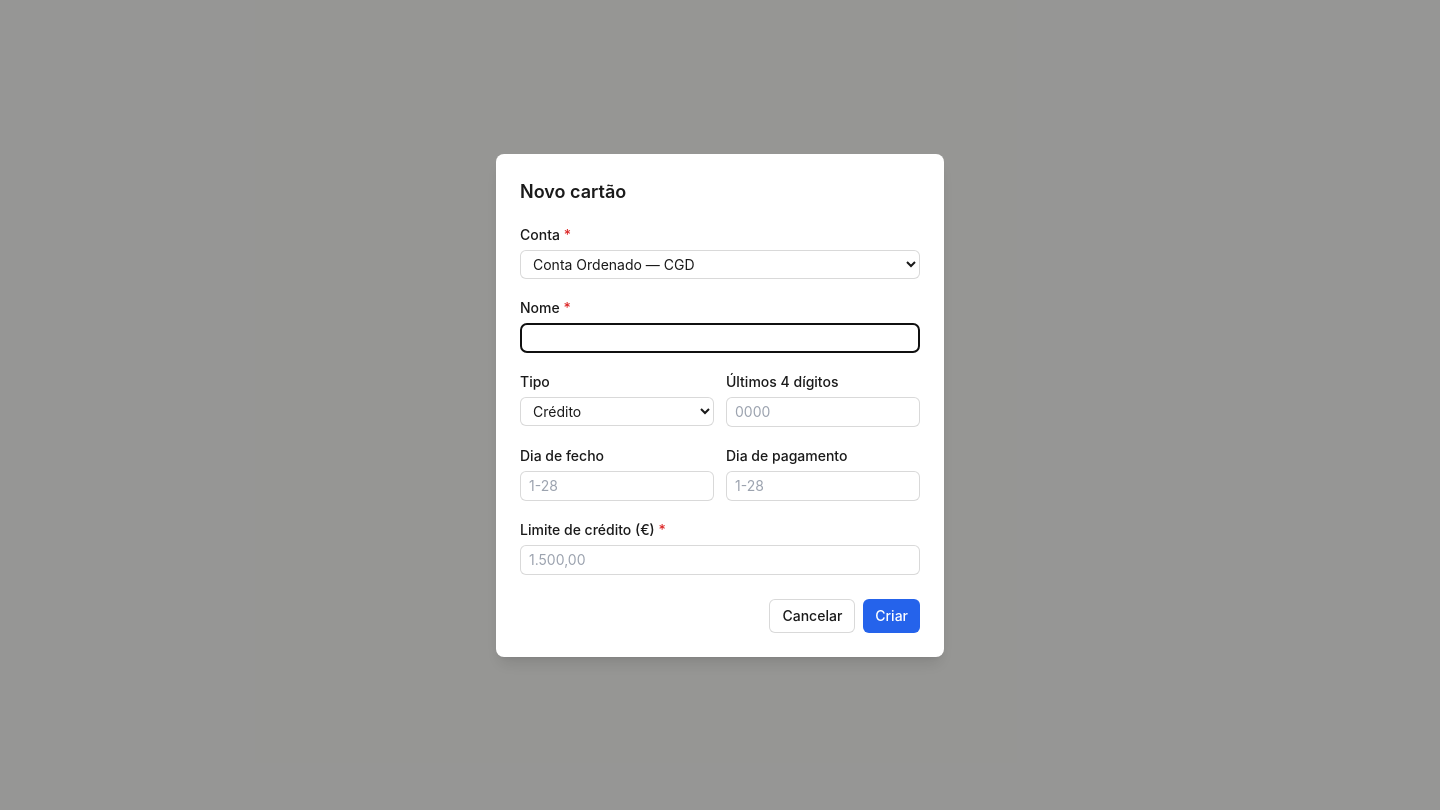
Test case: <NewCardModal> › dia de fecho fora de 1-28 bloqueia submit — sem POST
The width and height of the screenshot is (1440, 810).
Expected: the dropdown named "Conta associada" is enabled, [520,250,920,278]
Type "Visa" into the field named "Nome do cartão".
click(720, 338); type("Visa")  # box [520,322,920,352]
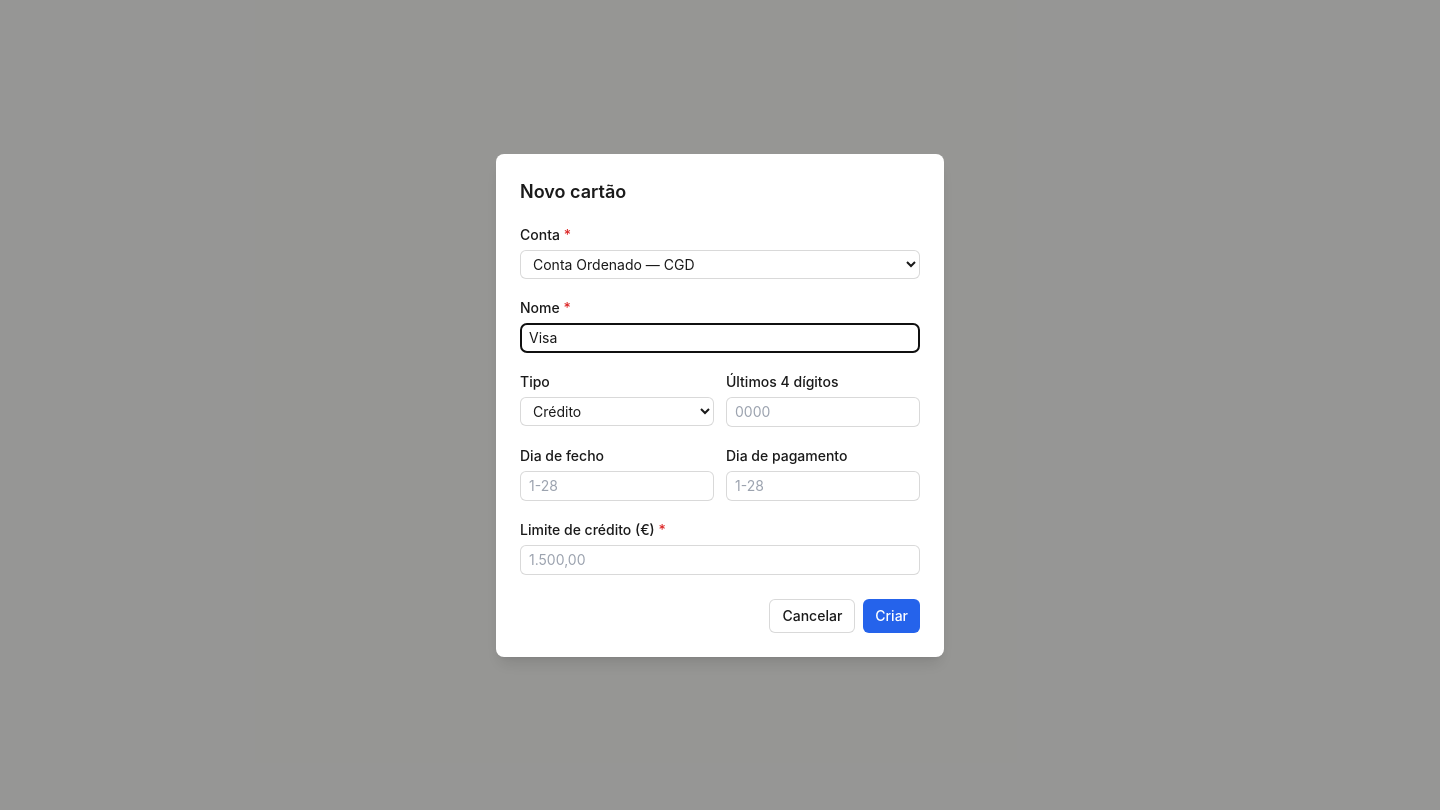
Type "29" into the field labelled "Dia de fecho".
click(617, 486); type("29")  # box [520,470,714,500]
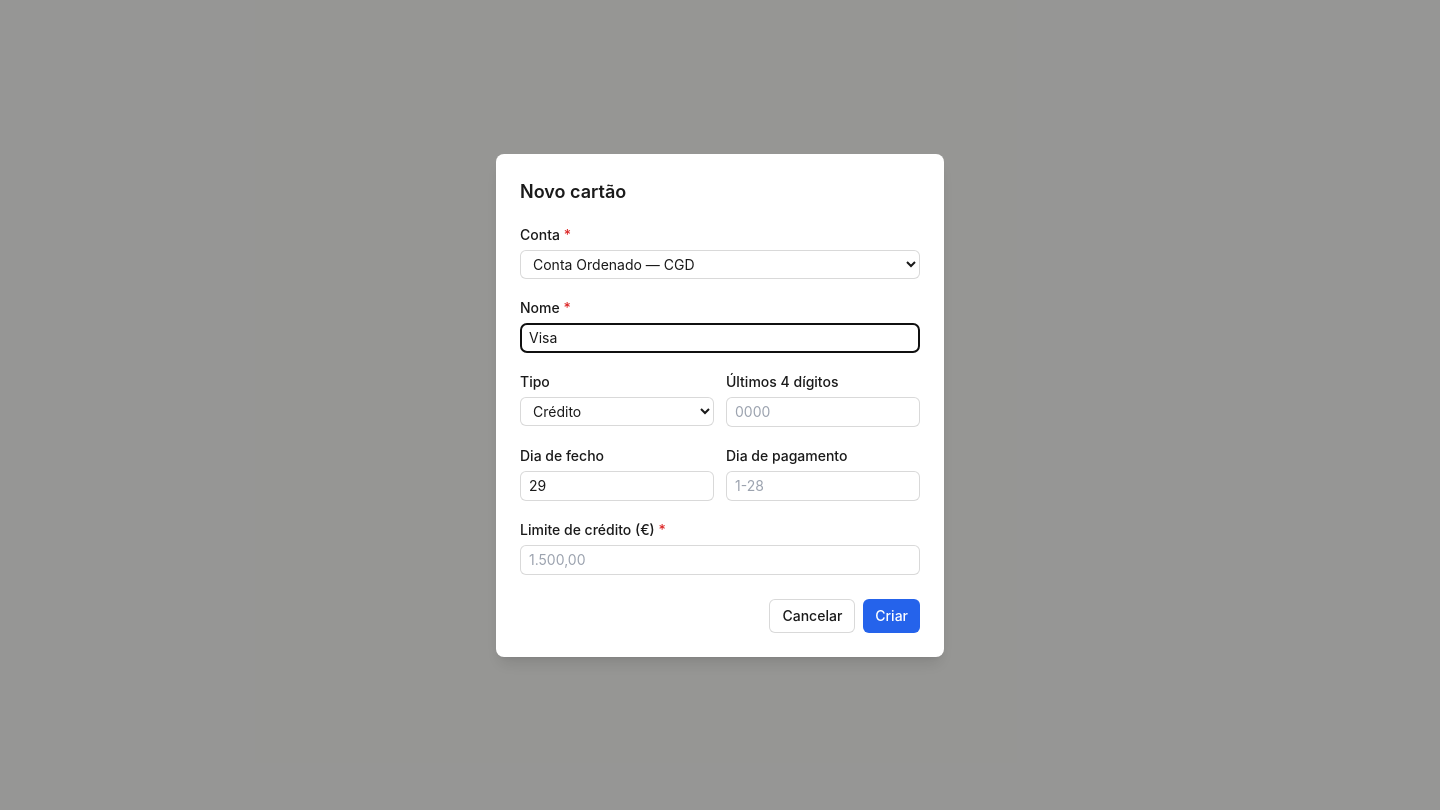
Click the button "Criar".
click(892, 616)  # box [863,598,920,632]
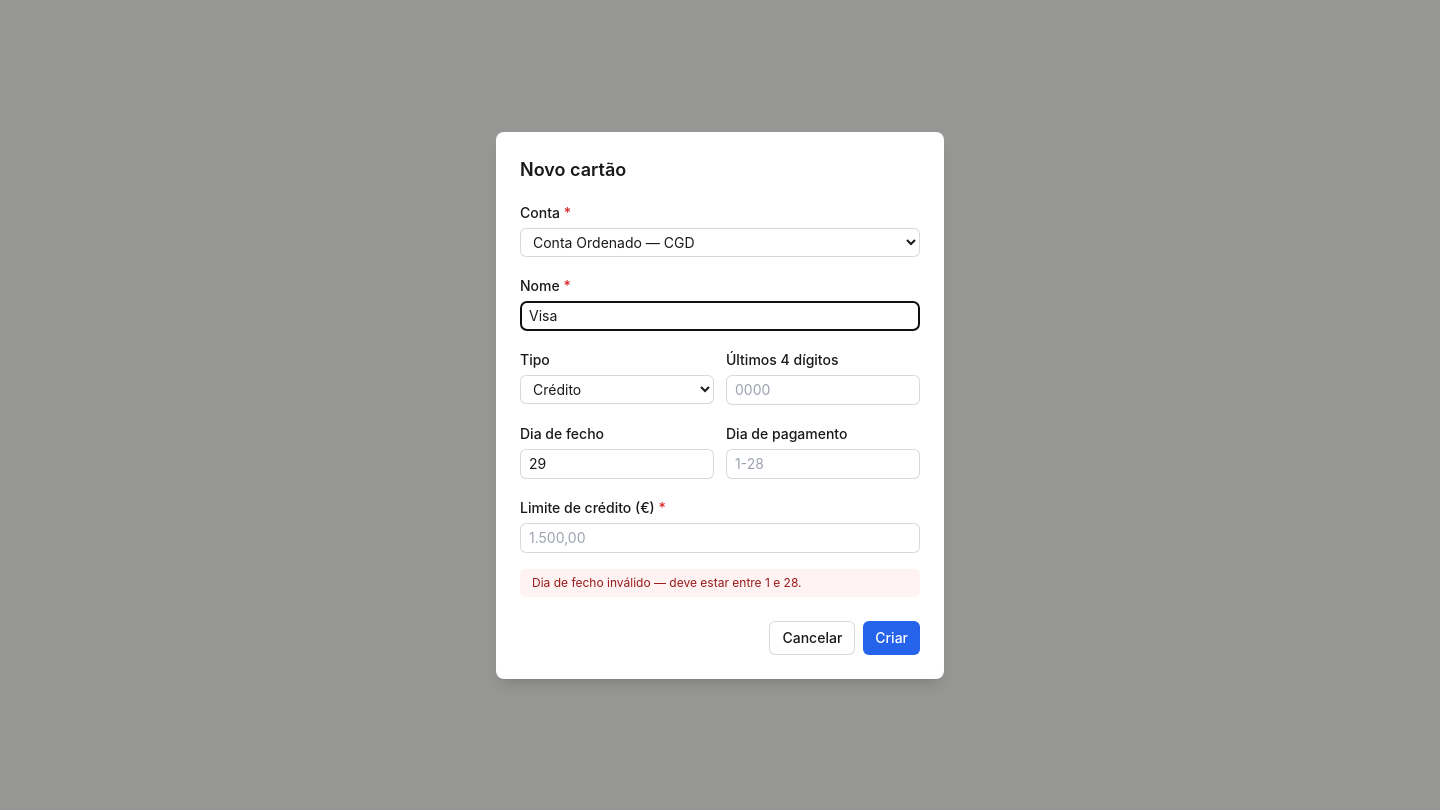
Expected: the message shows "Dia de fecho inválido", [532,574,802,590]
